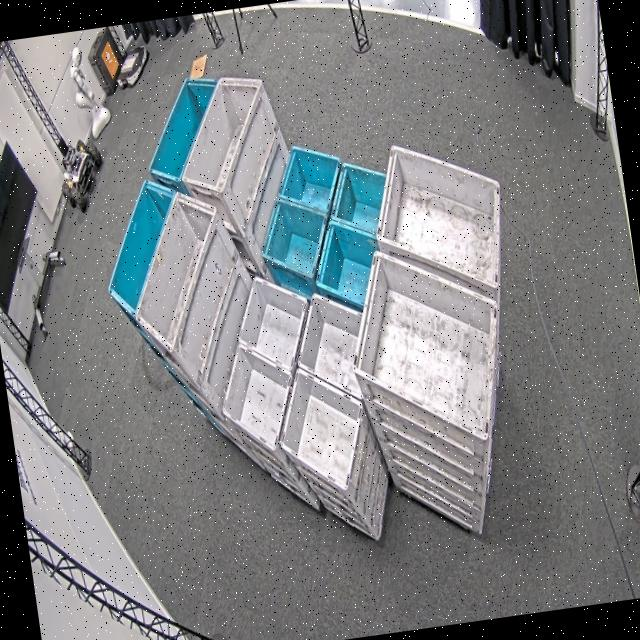Roll3G: (338, 233, 517, 462), (364, 132, 515, 306)
Roll4G: (118, 187, 237, 358), (168, 68, 278, 200)
Roll8G: (258, 286, 391, 502), (204, 268, 330, 458)
RollB4: (92, 175, 194, 322), (135, 71, 235, 187)
RollB8: (298, 155, 408, 316), (245, 138, 358, 288)
